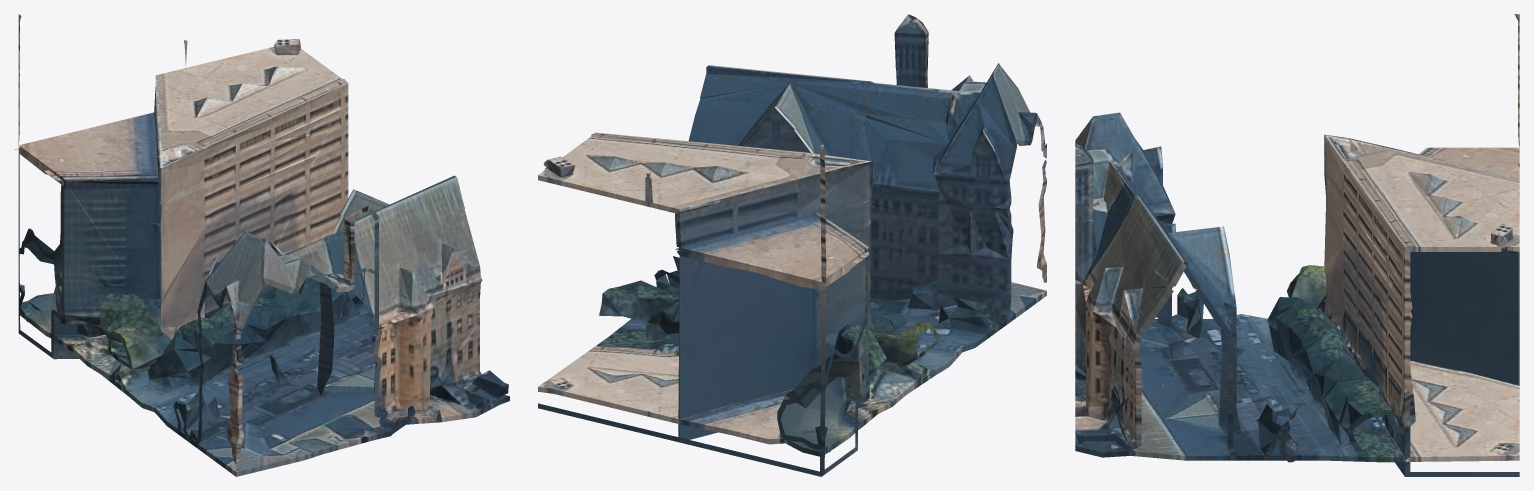
File: chunk_-4_7.glb
The picture shows the model from 3 angles, left to right: view 1: azimuth 30°, elevation 25°; view 2: azimuth 150°, elevation 25°; view 3: azimuth 270°, elevation 25°; orthographic projection. The views are drawn at different scales.
Visible parts, largest first — view 1: hero-chunk; view 2: hero-chunk; view 3: hero-chunk.
Part boxes in pixels (x1,y1,x2,y2): hero-chunk: [14, 14, 509, 476]; hero-chunk: [538, 14, 1046, 476]; hero-chunk: [1075, 14, 1519, 476].
Bounding box in the file's own units: 56.66 × 61.88 × 76.33.
2 materials, 2 textured.
